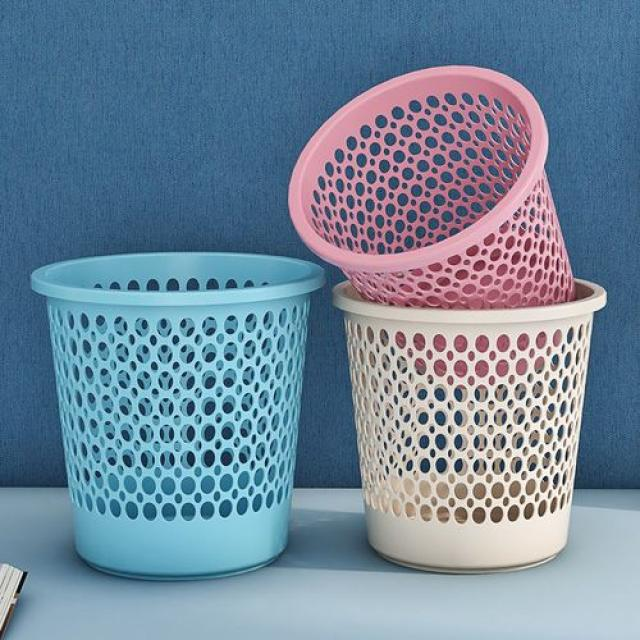dustbin: (27, 245, 333, 590), (333, 266, 616, 579), (283, 58, 586, 306)
